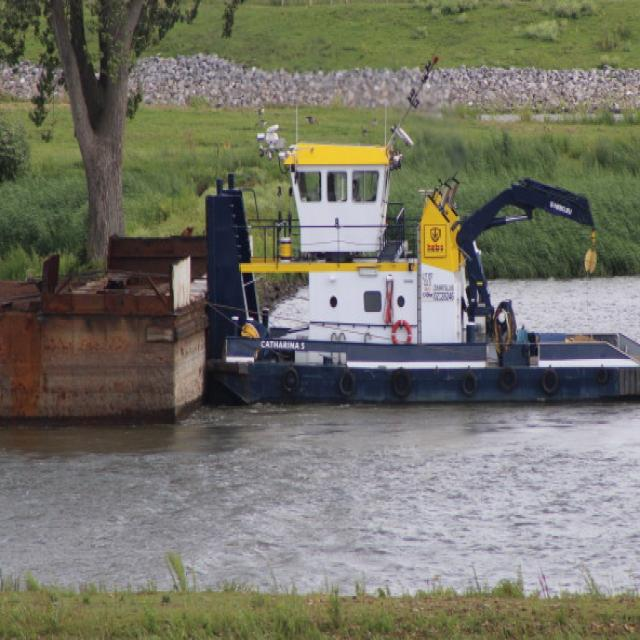tugboat: (199, 123, 640, 418)
